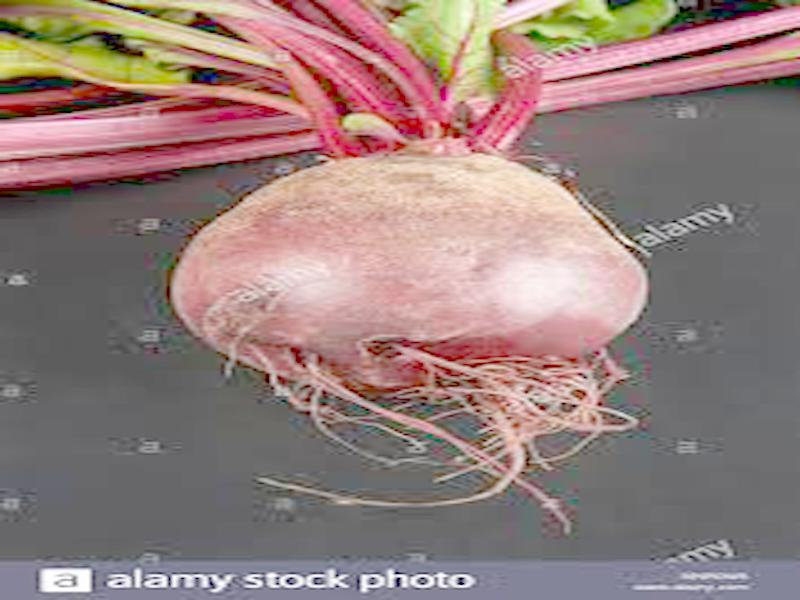Beet: (5, 2, 651, 531)
